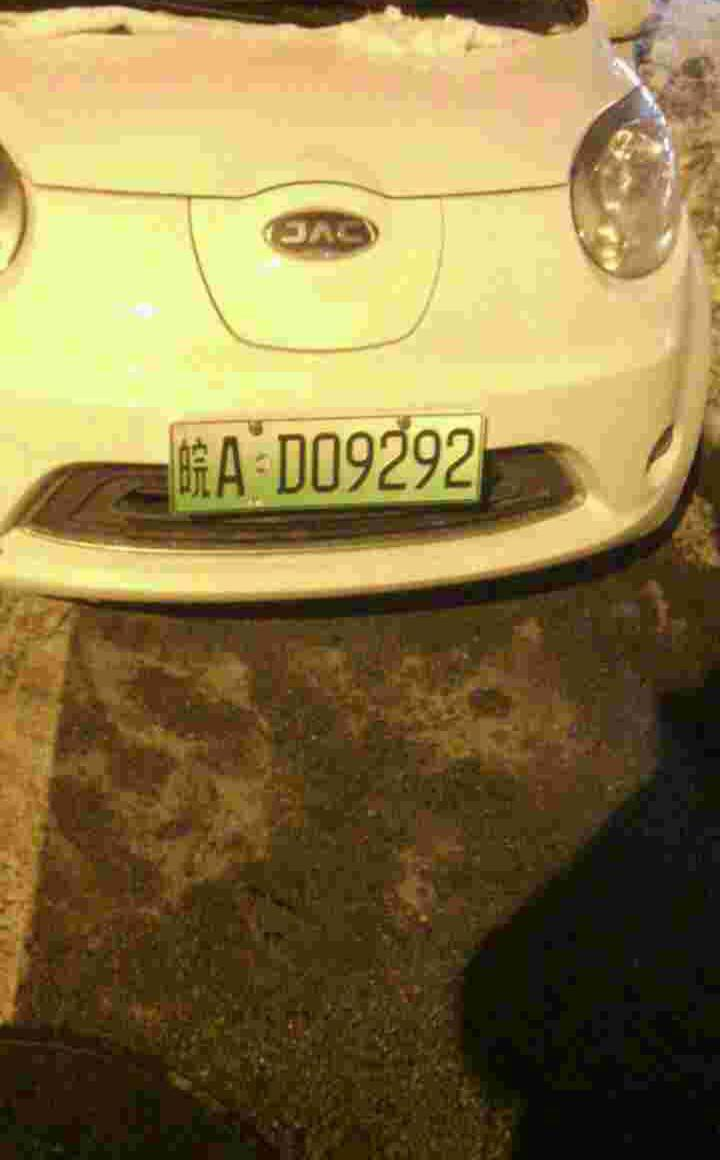car_id: (168, 415, 491, 514)
